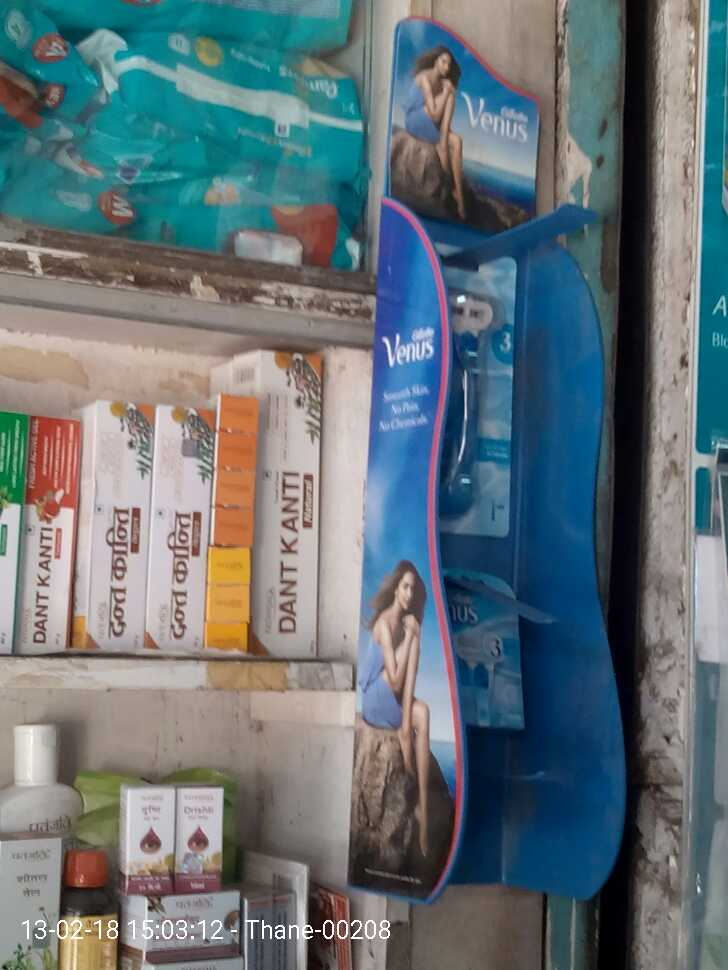beauty: (433, 247, 510, 531), (440, 566, 533, 737)
pharmacy: (93, 34, 362, 177)
